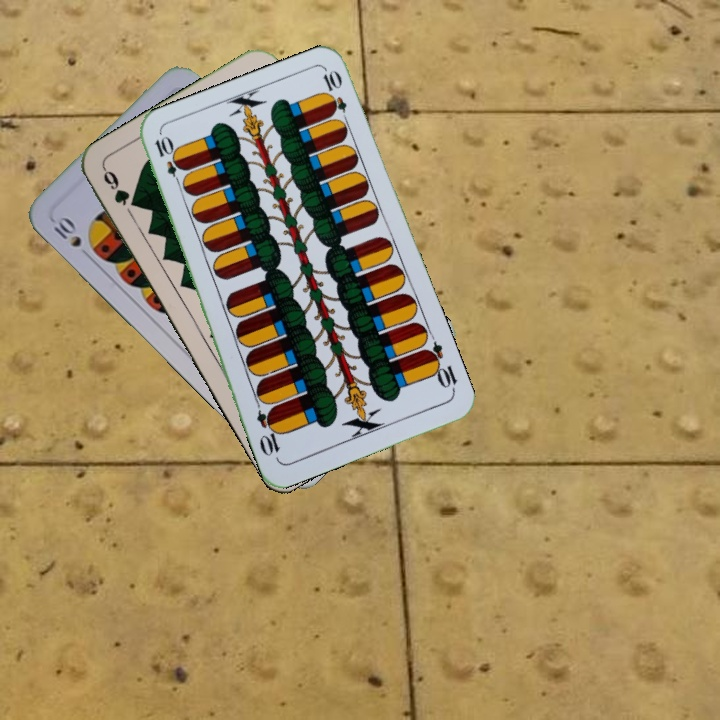E10: (420, 338, 460, 395), (150, 132, 186, 190)
G9: (99, 164, 133, 208)
S10: (49, 212, 94, 262)
